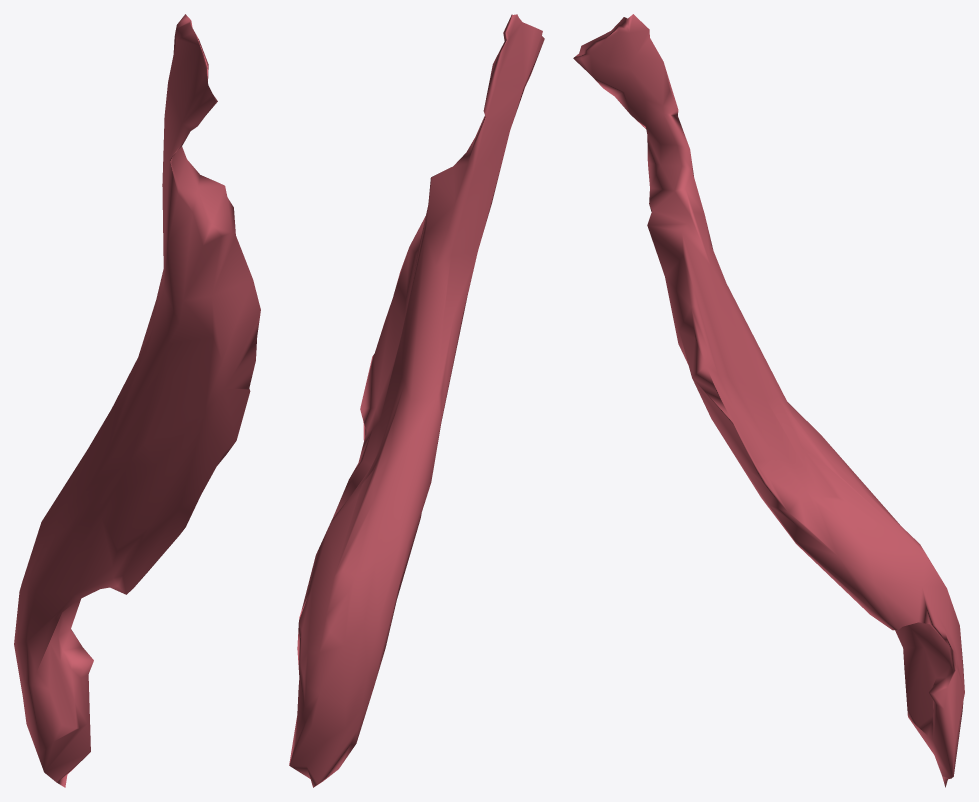
3 views of the same model, side by side, from view 1: azimuth 30°, elevation 25°; view 2: azimuth 150°, elevation 25°; view 3: azimuth 270°, elevation 25° (orthographic). The views are drawn at different scales.
Parts seen in each view (by area): view 1: 左侧踇短屈肌内侧头; view 2: 左侧踇短屈肌内侧头; view 3: 左侧踇短屈肌内侧头.
Part boxes in pixels (x1,y1,x2,y2): 左侧踇短屈肌内侧头: (14,14,260,787); 左侧踇短屈肌内侧头: (289,14,544,787); 左侧踇短屈肌内侧头: (573,14,964,787).
Bounding box in the file's own units: 0.0191 × 0.1228 × 0.0586.
